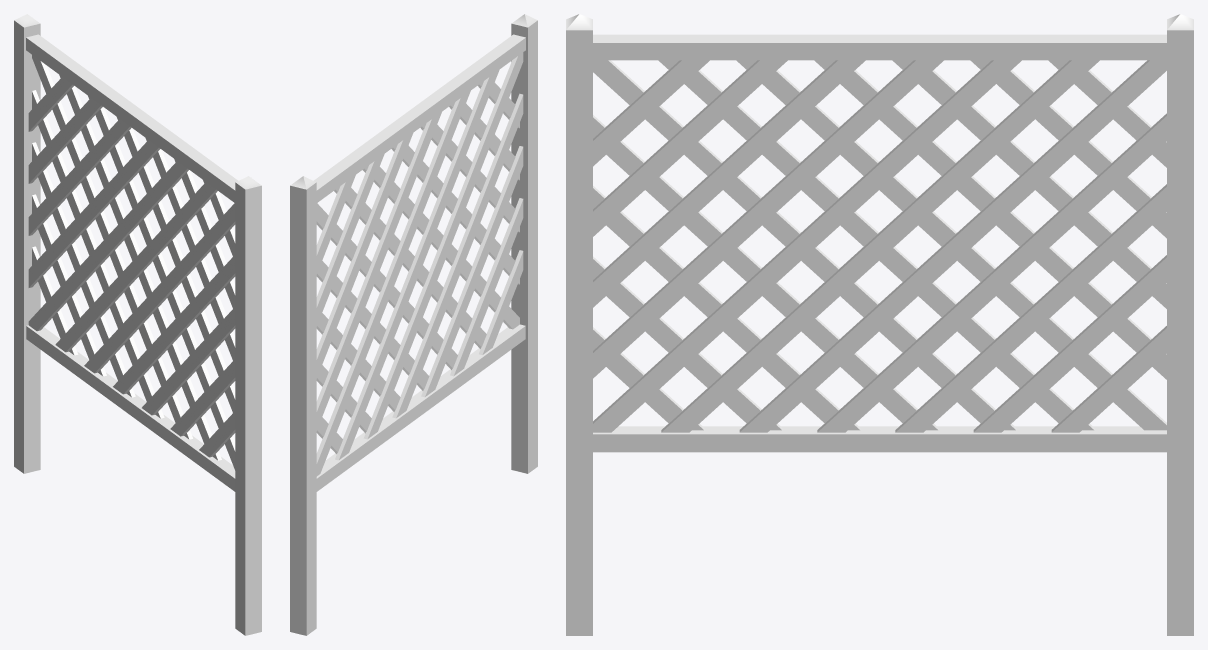
The model's file is trellis (4).fbx.
3 renders of one model, left to right at view 1: azimuth 30°, elevation 25°; view 2: azimuth 150°, elevation 25°; view 3: azimuth 270°, elevation 25°, orthographic. The views are drawn at different scales.
Visible parts, largest first — view 1: trellis (4); view 2: trellis (4); view 3: trellis (4).
Boxes of the visible parts, x1,y1,x2,y2 form: trellis (4): (14,14,261,635); trellis (4): (290,14,537,635); trellis (4): (566,14,1193,635).
Size of the model in its own units: 0.2087 by 5.49 by 5.07.
